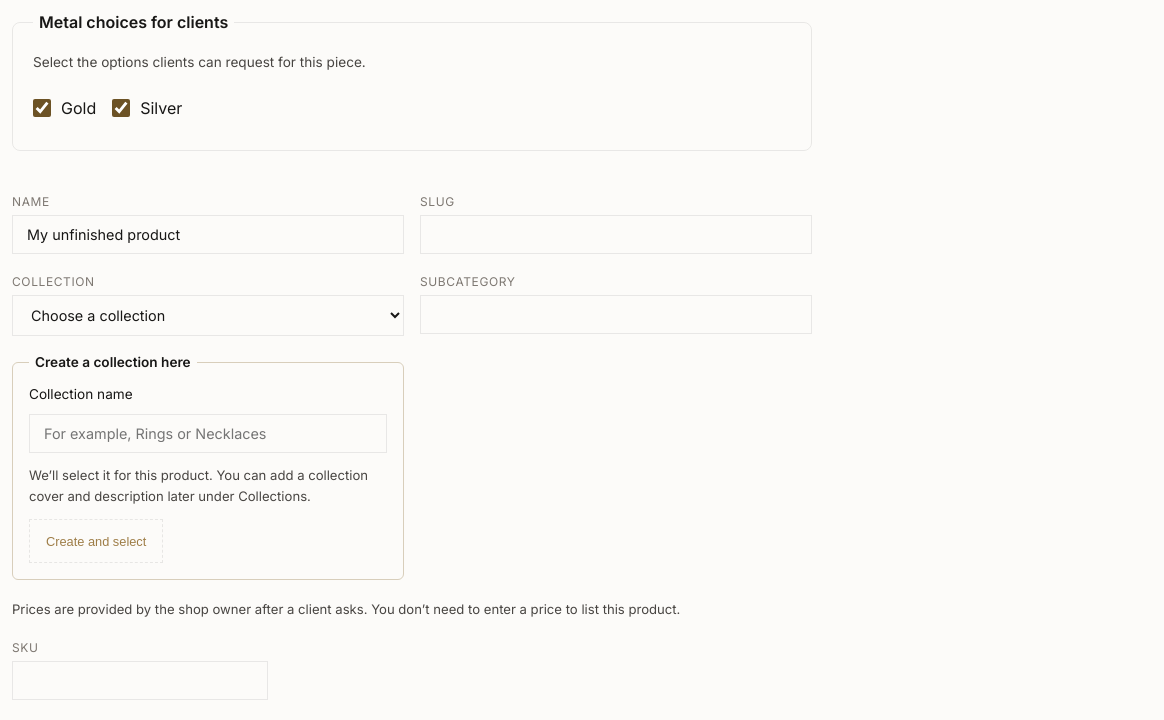
Inline collection creation › creates and selects a collection without losing product edits
This screenshot has width=1164, height=720.
Type "Rings" into the field labelled "Collection name" at (208, 434), box x1=29 y1=414 x2=387 y2=453
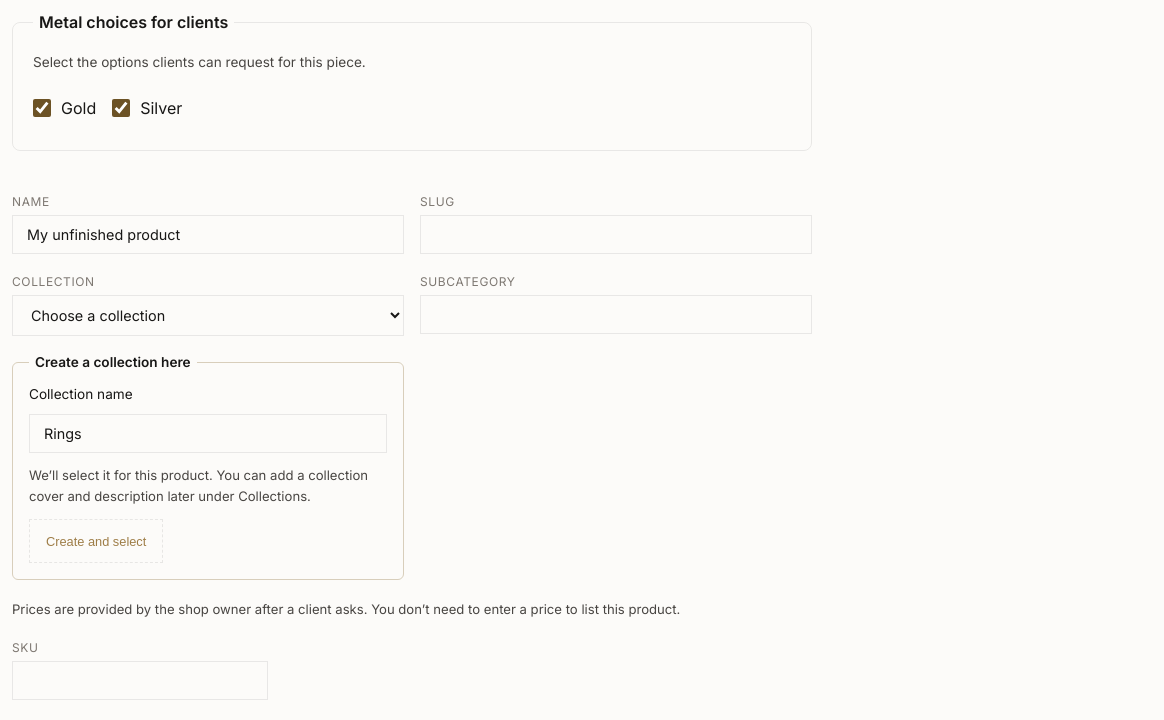
Click the button "Create and select" at (96, 541), box x1=29 y1=519 x2=163 y2=563
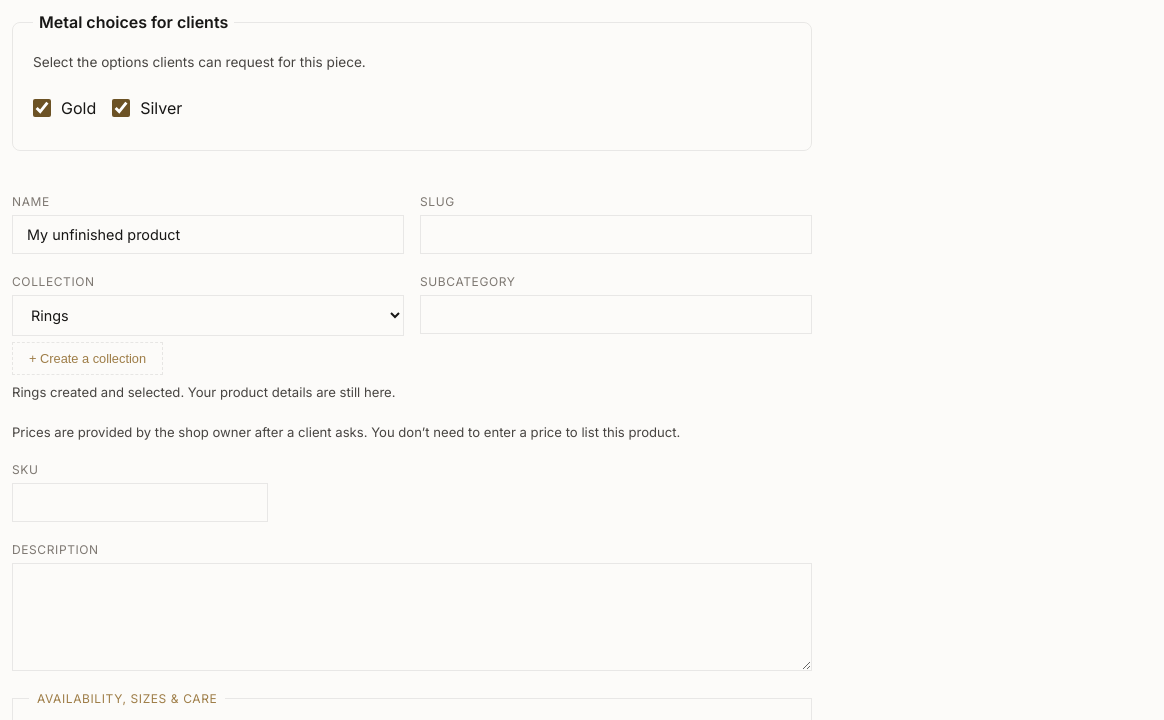
expect the field showing "My unfinished product" below "Name" is shown: met, box x1=12 y1=215 x2=404 y2=254
expect the dropdown labelled "Collection" shows "Rings": met, box x1=12 y1=295 x2=404 y2=336
expect the message shows "Rings created and selected": met, box x1=12 y1=384 x2=396 y2=400
